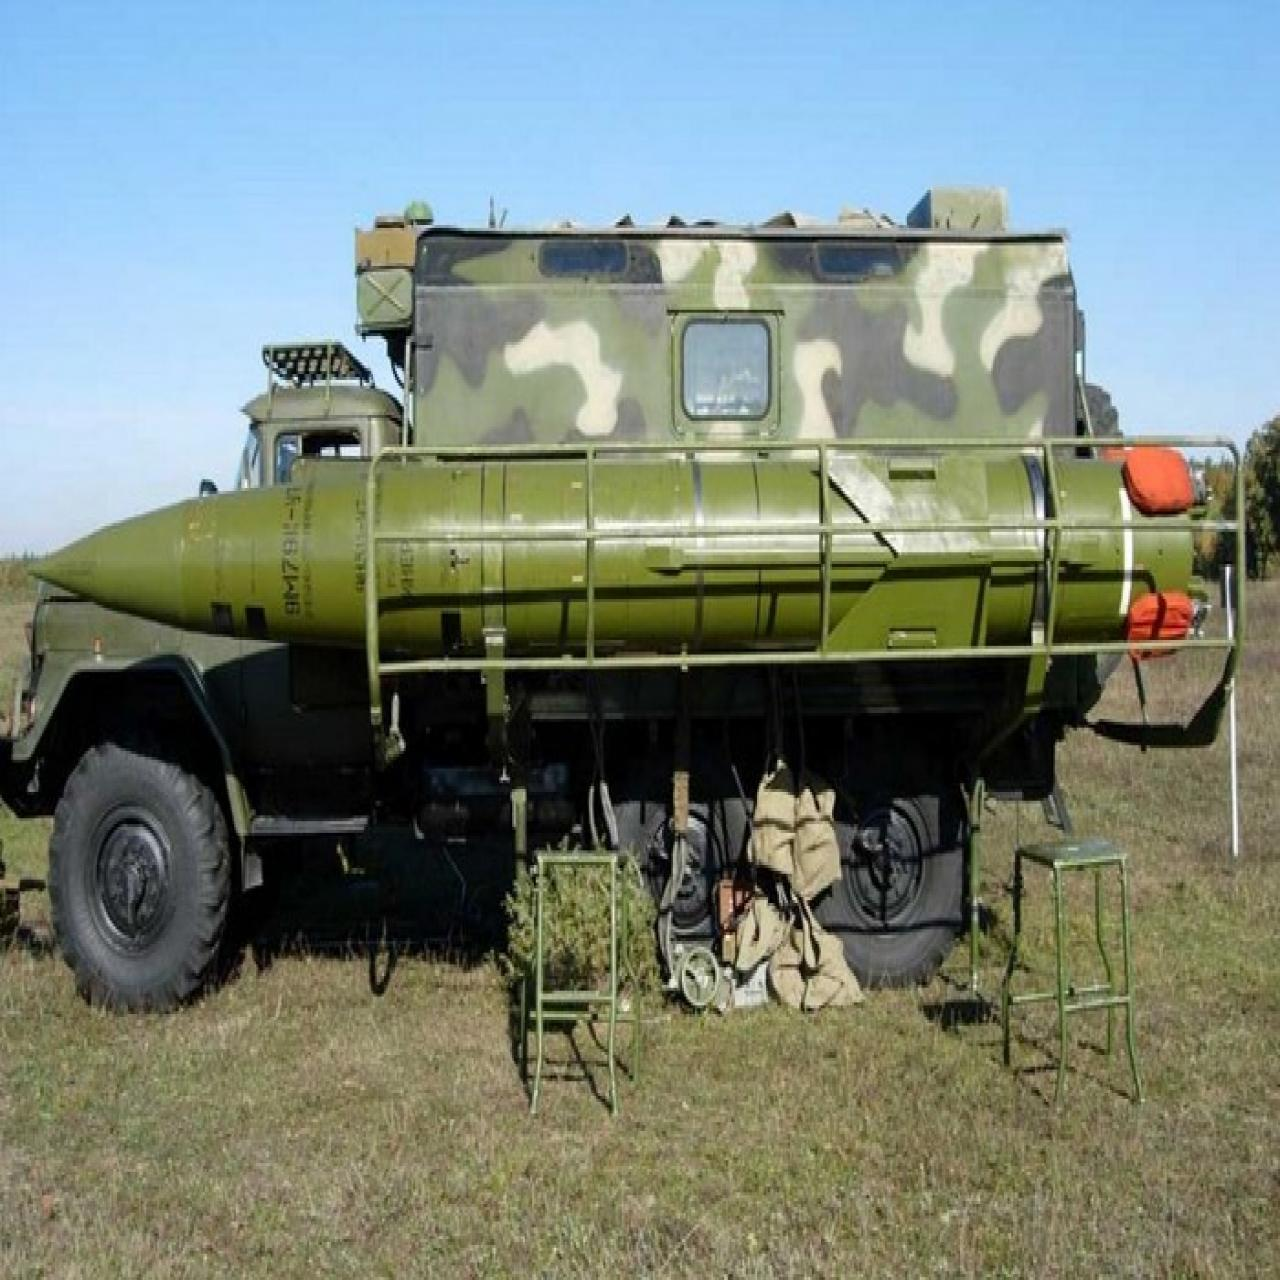MIL_Veh: (28, 230, 1207, 1010)
